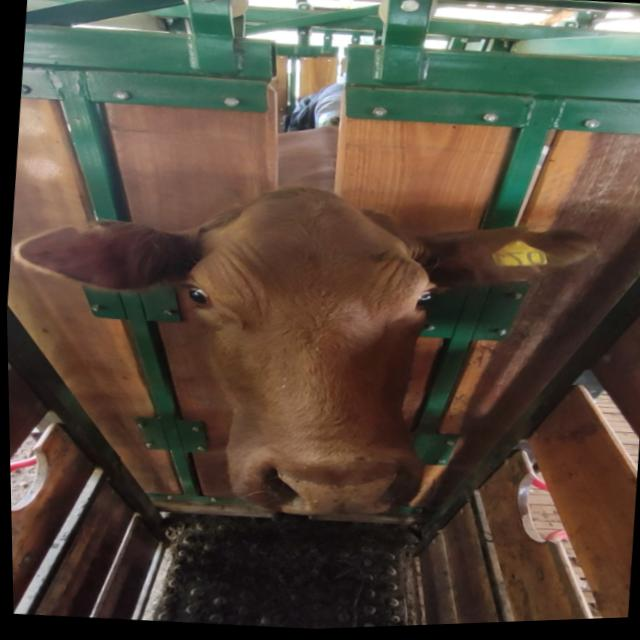cowFace: (162, 176, 444, 528)
